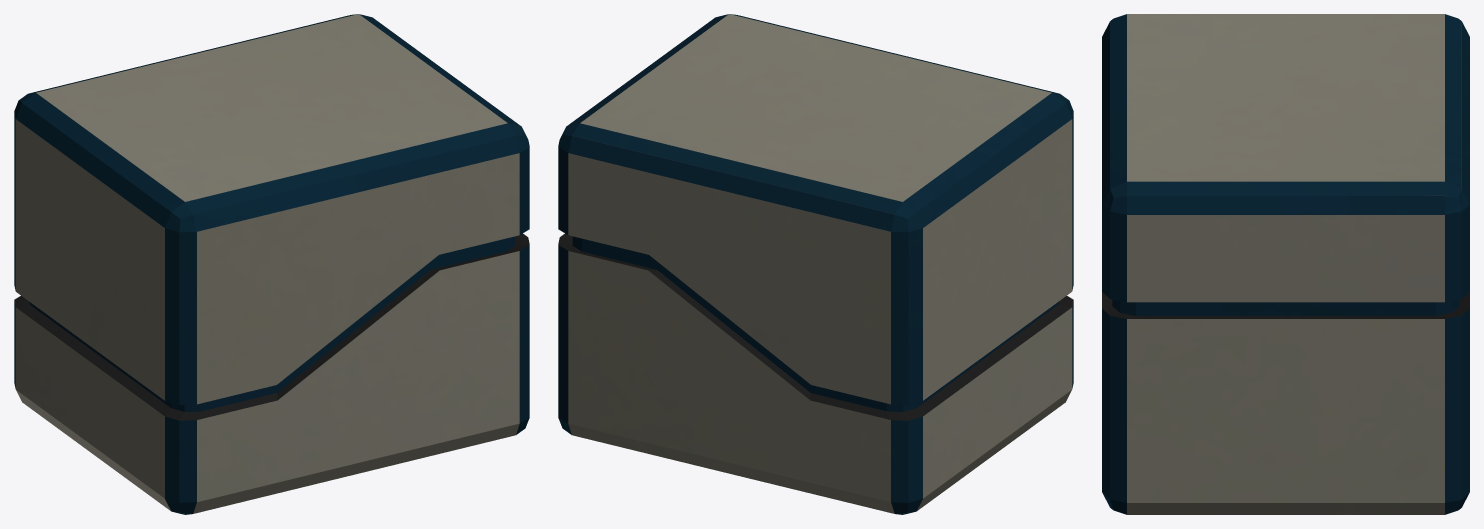
File: Laatikko.fbx
The picture shows the model from 3 angles, left to right: view 1: azimuth 30°, elevation 25°; view 2: azimuth 150°, elevation 25°; view 3: azimuth 270°, elevation 25°; orthographic projection. The views are drawn at different scales.
Parts seen in each view (by area): view 1: Paketti; view 2: Paketti; view 3: Paketti.
Part boxes in pixels (left/top/right/bottom): Paketti: left=14, top=14, right=529, bottom=514; Paketti: left=558, top=14, right=1073, bottom=514; Paketti: left=1102, top=14, right=1469, bottom=514.
Bounding box in the file's own units: 317 × 261 × 261.
1 material, 1 textured.
